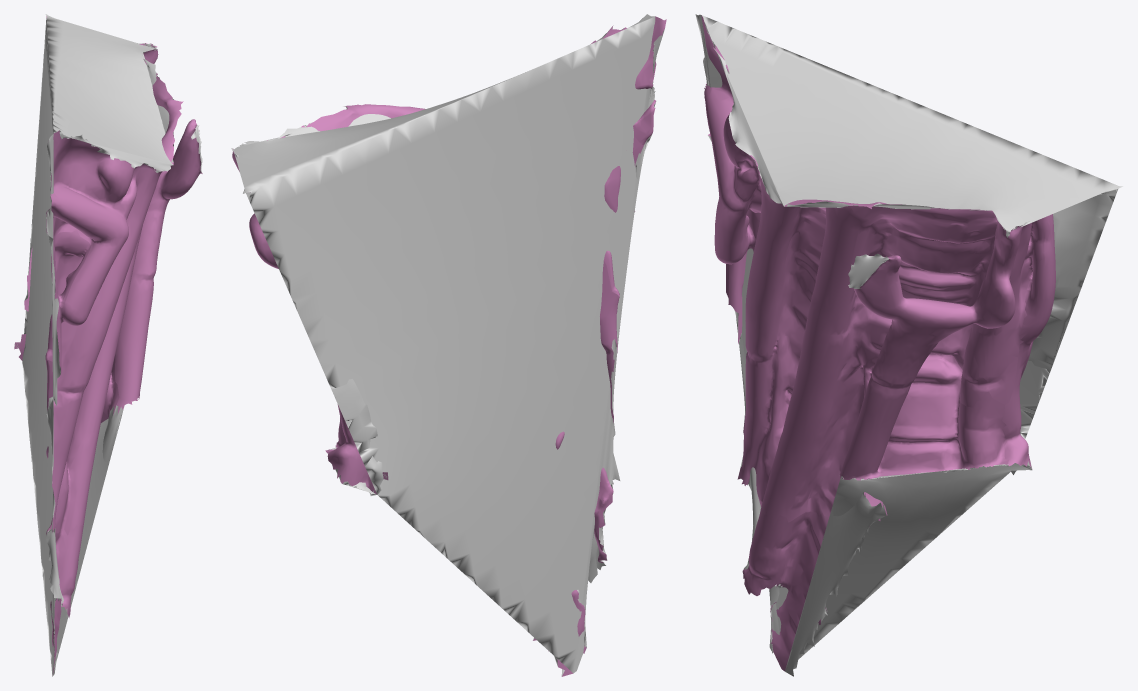
The model's file is Hi3D_Segmented Pastel Female Android 3D Model Asset_part45_20261014_192059.glb.
3 views of the same model, side by side, from view 1: azimuth 30°, elevation 25°; view 2: azimuth 150°, elevation 25°; view 3: azimuth 270°, elevation 25° (orthographic). The views are drawn at different scales.
Parts seen in each view (by area): view 1: Hi3D_Segmented Pastel Female Android 3D Model Asset_part45_2; view 2: Hi3D_Segmented Pastel Female Android 3D Model Asset_part45_2; view 3: Hi3D_Segmented Pastel Female Android 3D Model Asset_part45_2.
Boxes of the visible parts, box(x1,y1,x2,y2) form: Hi3D_Segmented Pastel Female Android 3D Model Asset_part45_2: box(14, 14, 202, 676); Hi3D_Segmented Pastel Female Android 3D Model Asset_part45_2: box(231, 14, 666, 676); Hi3D_Segmented Pastel Female Android 3D Model Asset_part45_2: box(695, 14, 1122, 676).
Size of the model in its own units: 0.0553 by 0.1218 by 0.0739.
